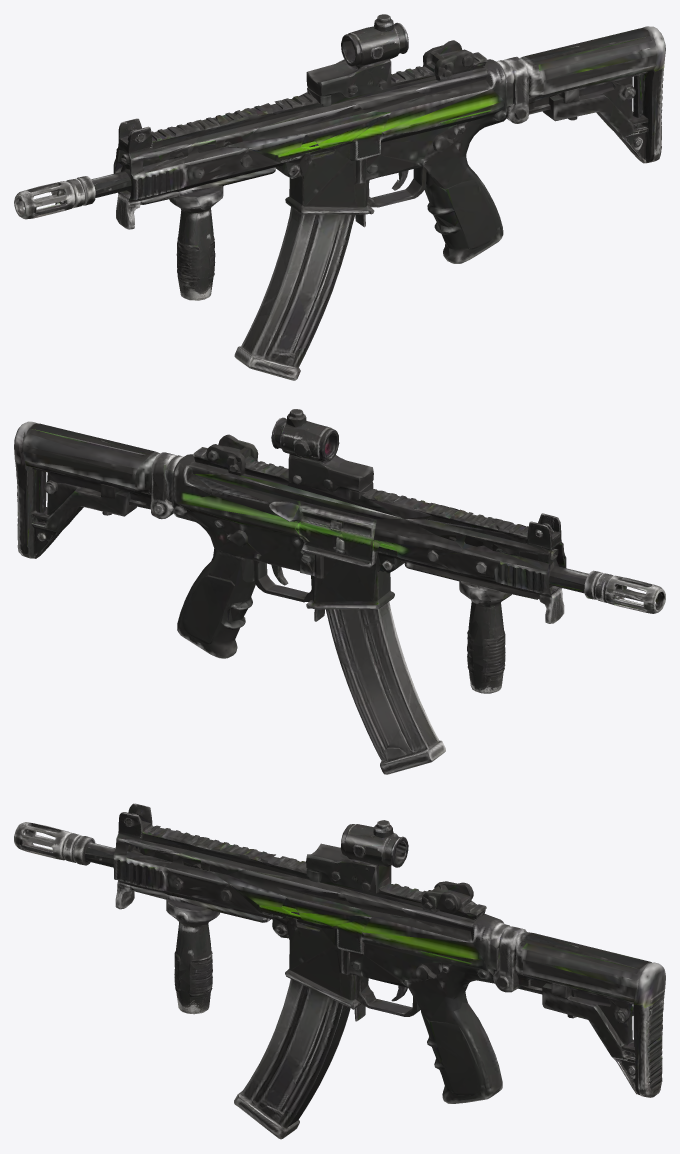
File: gun_smg.glb
3 views of the same model, one above another, from view 1: azimuth 30°, elevation 25°; view 2: azimuth 150°, elevation 25°; view 3: azimuth 330°, elevation 25° (orthographic).
Visible parts, largest first — view 1: Mesh_0; view 2: Mesh_0; view 3: Mesh_0.
Boxes of the visible parts, box(x1,y1,x2,y2) form: Mesh_0: box(14, 14, 665, 380); Mesh_0: box(14, 409, 665, 774); Mesh_0: box(14, 803, 665, 1139).
Size of the model in its own units: 1.9 by 0.9523 by 0.1629.
1 material, 1 textured.
